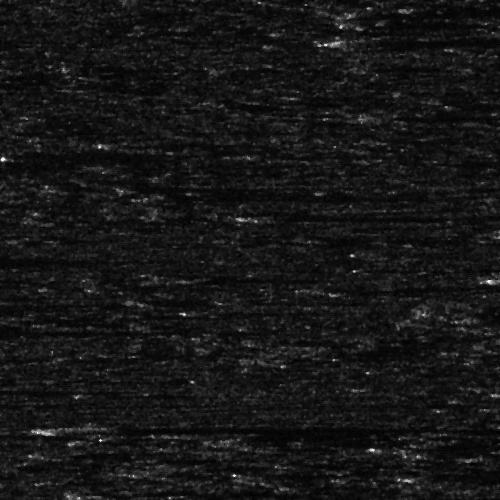object: (221, 209, 304, 222), (10, 423, 125, 432), (335, 110, 408, 121), (454, 271, 500, 288), (145, 273, 208, 284), (303, 9, 396, 16), (297, 285, 338, 292), (383, 5, 436, 10), (481, 157, 500, 170), (0, 149, 24, 158), (117, 298, 148, 303), (112, 192, 153, 195)
shadow: (263, 209, 500, 222), (68, 423, 397, 432), (0, 327, 301, 334), (0, 254, 139, 265), (0, 149, 162, 158), (372, 110, 500, 121), (0, 383, 110, 394), (350, 9, 500, 16), (177, 273, 261, 284), (317, 285, 404, 292), (0, 301, 82, 308), (410, 5, 500, 10), (133, 298, 216, 303), (0, 14, 24, 25), (133, 192, 217, 195), (0, 201, 63, 202)
